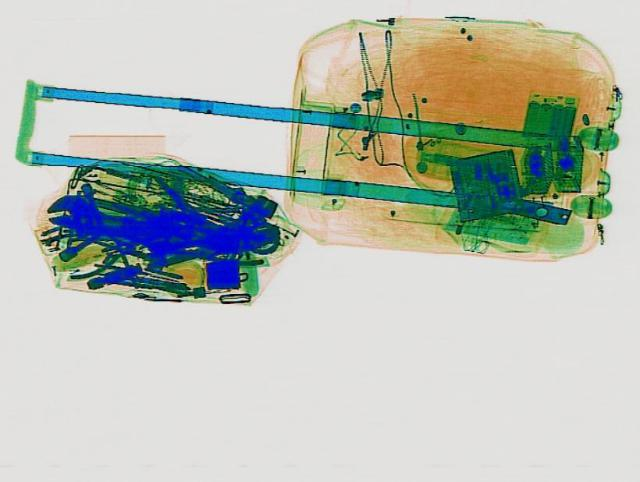Wrench: (39, 191, 285, 255)
